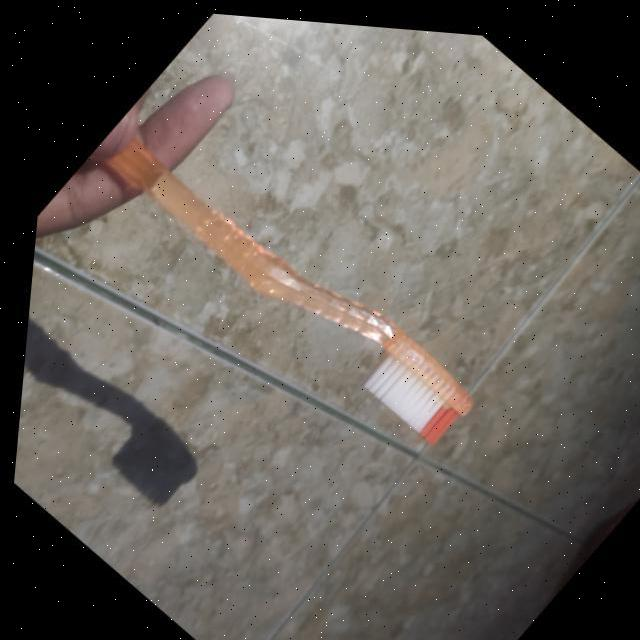toothbrush: (36, 73, 530, 495)
